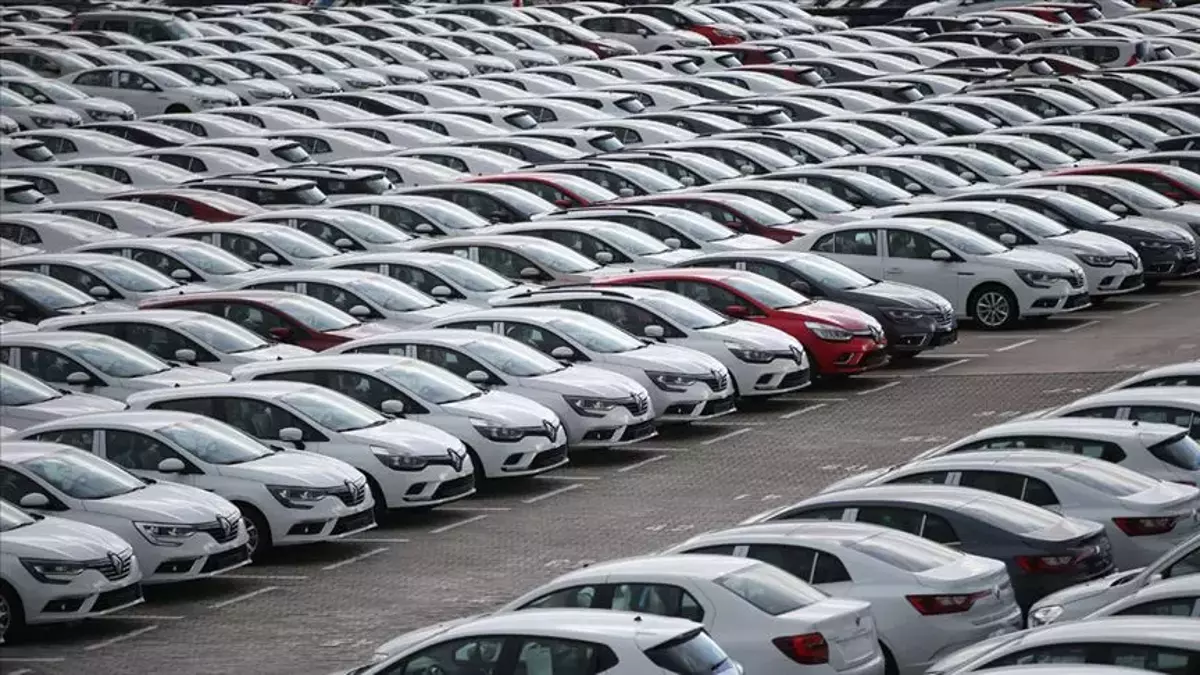Car: (369, 554, 887, 675), (660, 519, 1023, 675), (0, 410, 378, 555), (125, 381, 477, 524), (744, 485, 1120, 612), (814, 450, 1200, 570), (230, 354, 569, 490), (313, 329, 659, 448), (410, 306, 736, 422), (0, 438, 252, 585), (487, 283, 812, 396), (774, 217, 1094, 328), (589, 269, 892, 375), (664, 251, 955, 357), (921, 572, 1200, 675), (337, 609, 742, 675), (871, 201, 1147, 296), (939, 187, 1200, 280), (0, 496, 142, 644), (912, 417, 1200, 487), (36, 310, 317, 375), (0, 331, 239, 404), (138, 288, 397, 352), (219, 269, 482, 332), (1027, 533, 1200, 628), (944, 617, 1200, 675), (993, 175, 1200, 244), (526, 204, 783, 254), (306, 250, 527, 308), (595, 192, 836, 244), (0, 253, 219, 308), (407, 234, 634, 286), (474, 221, 713, 270), (64, 237, 276, 290), (1008, 386, 1200, 442), (148, 222, 352, 272), (228, 206, 434, 255), (57, 64, 242, 118), (685, 179, 878, 225), (0, 363, 131, 430), (809, 156, 1002, 199), (0, 200, 212, 238), (318, 195, 501, 239), (749, 167, 942, 208), (384, 182, 562, 225), (867, 146, 1050, 187), (1000, 58, 1183, 99), (0, 271, 138, 324), (509, 158, 695, 197), (140, 60, 294, 106), (910, 135, 1107, 170), (690, 128, 865, 166), (193, 54, 344, 98), (0, 76, 137, 124), (625, 140, 812, 175), (231, 164, 398, 203), (578, 150, 756, 186), (240, 49, 388, 92), (1041, 163, 1200, 203), (978, 126, 1149, 163), (86, 188, 266, 223), (165, 173, 332, 210), (451, 173, 622, 208), (332, 41, 472, 83), (608, 4, 749, 45), (572, 14, 712, 55), (0, 213, 138, 254), (292, 45, 430, 86), (377, 36, 517, 76), (424, 31, 561, 71), (958, 76, 1129, 108), (755, 120, 906, 156), (1020, 115, 1173, 150), (252, 129, 409, 163), (52, 155, 204, 189), (322, 156, 472, 190), (468, 28, 600, 66), (0, 167, 137, 203), (124, 146, 282, 177), (4, 129, 153, 161), (513, 22, 638, 60), (384, 145, 531, 177), (945, 88, 1099, 118), (807, 113, 948, 145), (1010, 37, 1151, 69), (69, 10, 204, 43), (906, 96, 1046, 127), (862, 104, 1001, 135), (433, 136, 592, 163), (180, 137, 320, 167), (485, 97, 620, 128), (562, 118, 702, 147), (702, 2, 816, 37), (0, 86, 84, 133), (489, 128, 627, 156), (317, 121, 465, 147), (1077, 23, 1177, 61), (71, 120, 202, 148), (590, 83, 716, 112), (250, 98, 384, 125), (719, 96, 858, 122), (375, 113, 511, 139), (199, 106, 333, 132), (1076, 106, 1200, 134), (746, 1, 850, 34), (686, 6, 784, 41), (931, 54, 1102, 74), (138, 113, 271, 138), (0, 45, 99, 78), (632, 76, 768, 100), (425, 106, 544, 133), (689, 70, 817, 95), (667, 103, 794, 128), (365, 85, 490, 110), (621, 110, 750, 134), (774, 89, 902, 113), (539, 90, 650, 117), (770, 58, 891, 82), (1097, 65, 1200, 93), (1102, 361, 1200, 390), (864, 72, 969, 99), (516, 66, 634, 90), (314, 92, 430, 116), (426, 78, 542, 102), (819, 81, 929, 105), (430, 4, 539, 28), (567, 60, 681, 82), (728, 63, 828, 88), (471, 73, 584, 95), (919, 31, 1025, 54), (903, 0, 1046, 17), (956, 664, 1172, 675), (816, 52, 932, 72), (646, 50, 744, 73), (1113, 150, 1200, 175), (604, 55, 702, 77), (878, 16, 987, 35), (1046, 0, 1152, 19), (973, 25, 1076, 44), (180, 34, 283, 53), (738, 39, 835, 59), (990, 5, 1078, 26), (822, 29, 914, 49), (0, 178, 55, 211), (0, 137, 58, 168), (327, 21, 421, 40), (1115, 96, 1200, 117), (958, 11, 1069, 27), (866, 47, 958, 66), (779, 35, 880, 52), (699, 45, 789, 64), (283, 26, 371, 45), (99, 44, 191, 62), (1028, 2, 1106, 23), (909, 68, 1010, 84), (145, 41, 234, 59), (902, 42, 1001, 57), (196, 17, 278, 35), (240, 31, 324, 48), (62, 48, 141, 66), (117, 5, 200, 22), (54, 31, 148, 46), (411, 13, 489, 31), (14, 34, 101, 50), (1091, 19, 1177, 35), (384, 17, 452, 37), (1121, 14, 1200, 31), (241, 14, 320, 31), (282, 10, 365, 26), (849, 26, 931, 42), (533, 4, 604, 22), (325, 7, 399, 22), (0, 5, 74, 20), (509, 8, 574, 24), (1148, 132, 1200, 152), (409, 0, 524, 9), (0, 236, 47, 258), (0, 59, 42, 77), (185, 21, 235, 35), (187, 7, 244, 19), (250, 3, 311, 14), (0, 316, 36, 334), (211, 5, 272, 15), (574, 2, 623, 14), (0, 113, 19, 138), (0, 9, 28, 22), (0, 425, 22, 437)
